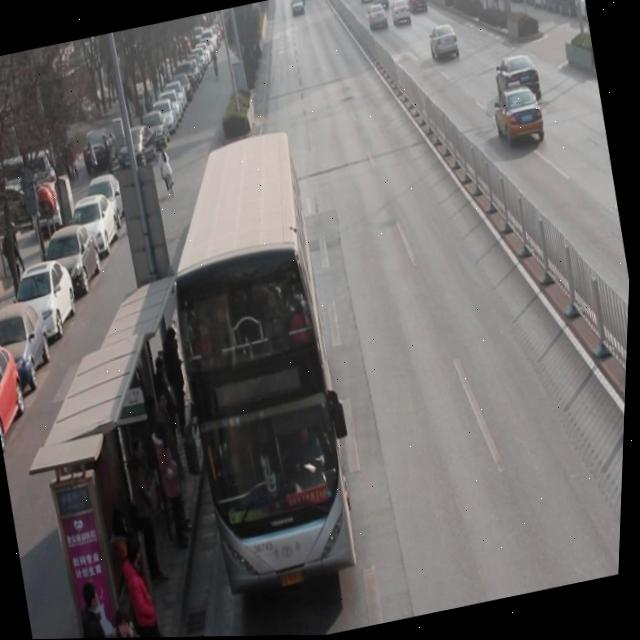car: (489, 77, 552, 153), (492, 52, 546, 114), (425, 23, 463, 66), (388, 0, 413, 30), (366, 4, 390, 33), (404, 0, 429, 18), (289, 0, 306, 19), (357, 0, 374, 5)
truck: (369, 0, 390, 12)
van: (139, 129, 377, 599)
